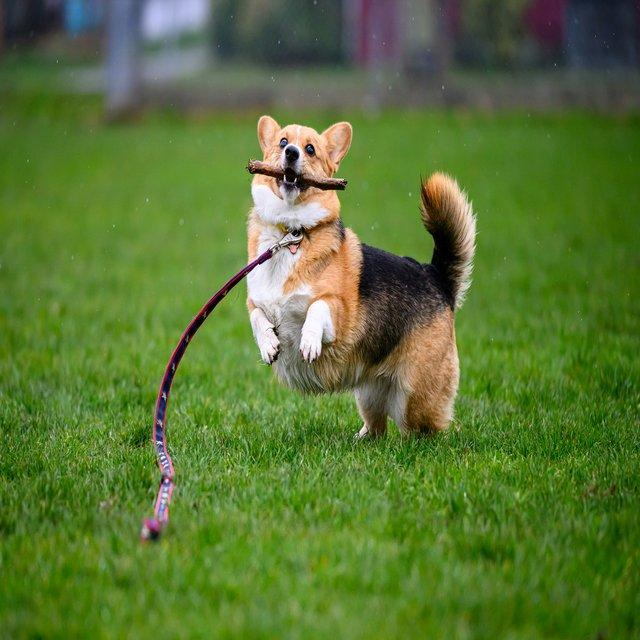corgi: (243, 113, 477, 441)
